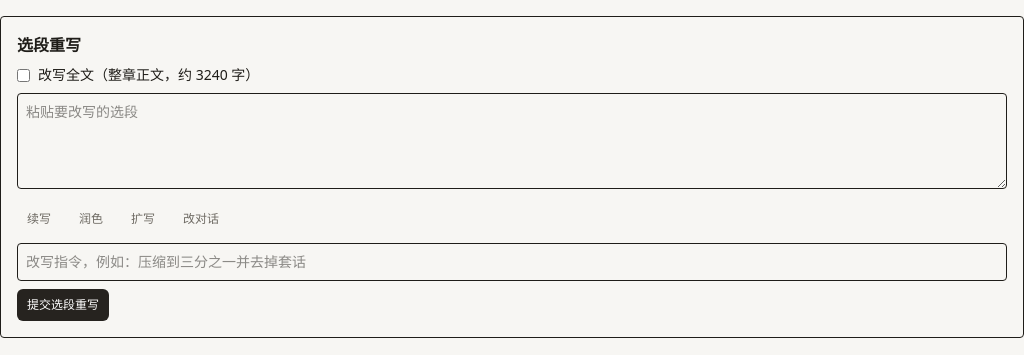
Test: SelectionRewrite › 全文模式：勾选后隐藏选段输入、预设填全文文案、提交走无 selection 通道（DEC-2026-1120-01）
Click the checkbox labelled "改写全文" at (24, 75), box [17,68,30,82]
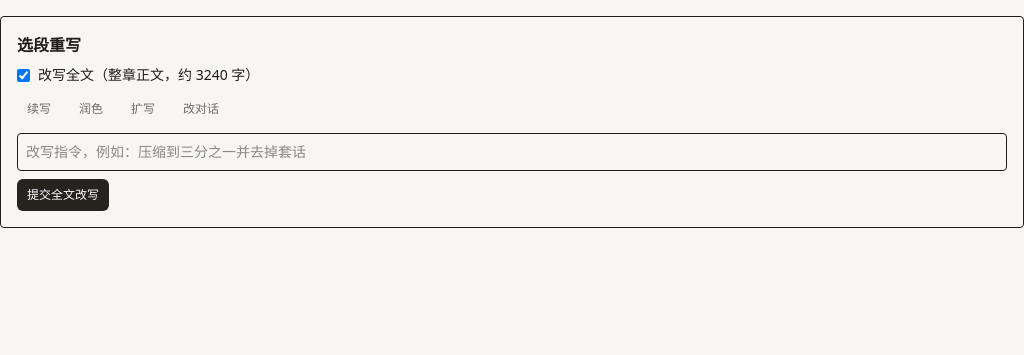
Expected: the text "改写全文（整章正文，约 3240 字）" is shown, [17,65,259,84]
Result: the text box with placeholder "粘贴要改写的选段" is gone
Click the button with aria-label "预设-润色" at (91, 109), box [69,93,113,125]
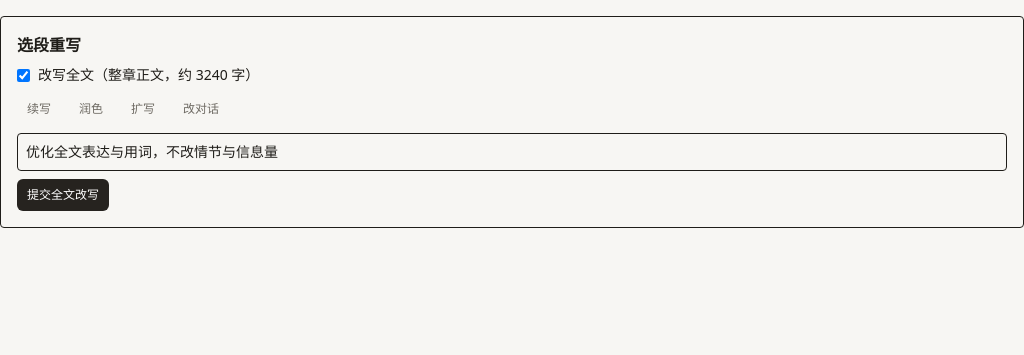
Click the button "提交全文改写" at (63, 195), box [17,179,109,211]
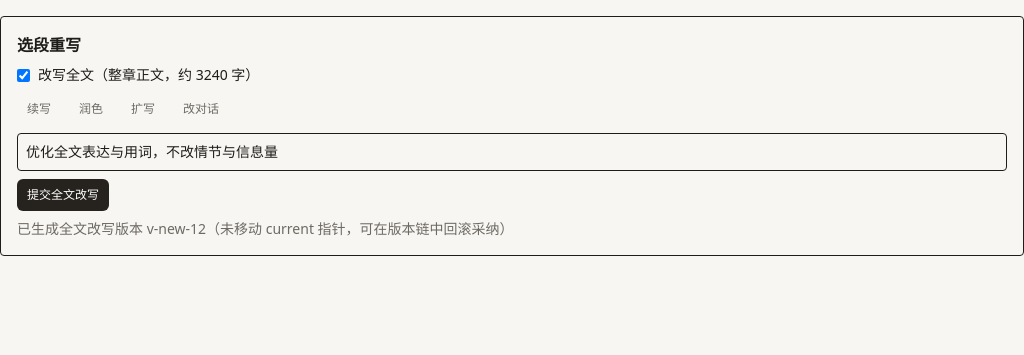
Result: the text "已生成全文改写版本 v-new-12（未移动 current 指针，可在版本链中回滚采纳）" is shown at [17,219,514,238]
